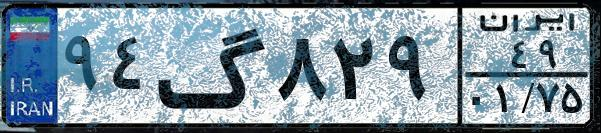0: (470, 70, 495, 125)
1: (495, 70, 520, 125)
2: (330, 28, 385, 110)
4: (110, 28, 156, 98), (508, 27, 537, 80)
5: (560, 70, 590, 125)
7: (535, 70, 560, 125)
8: (270, 28, 330, 110)
9: (385, 28, 445, 110), (57, 26, 110, 100), (537, 27, 568, 80)
گ: (156, 12, 270, 120)
